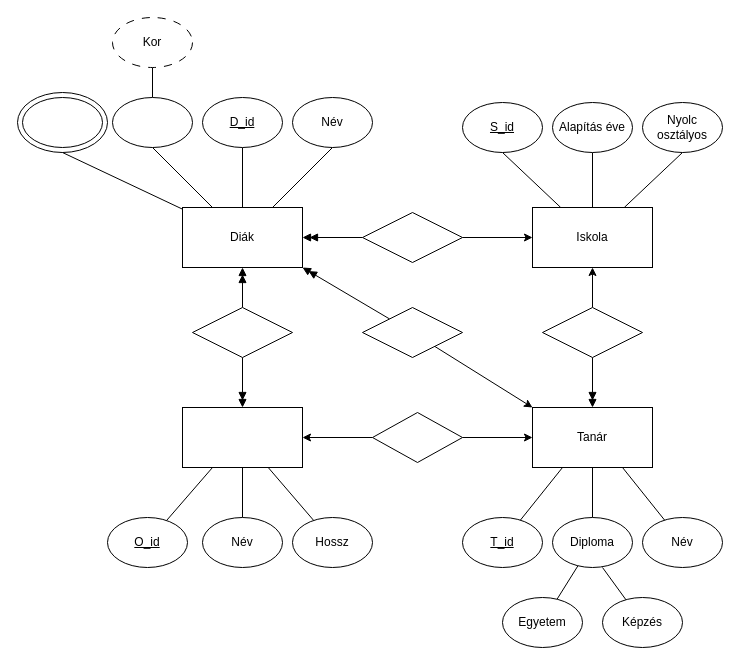
The diagram is 740 pixels wide and 665 high, and some of its shapes have lost their labels. The shapes that lost their labels are listed below. From the top down, each one's centre as x and y in pixels, then its label:
At point 62,122: "Megnyert versenyek".
At point 152,122: "Születési dátum".
At point 412,237: "bejár".
At point 242,332: "Felvette".
At point 412,332: "Osztályfőnöke".
At point 592,332: "Dolgozik".
At point 242,437: "Tárgy".
At point 417,437: "Oktatja".
